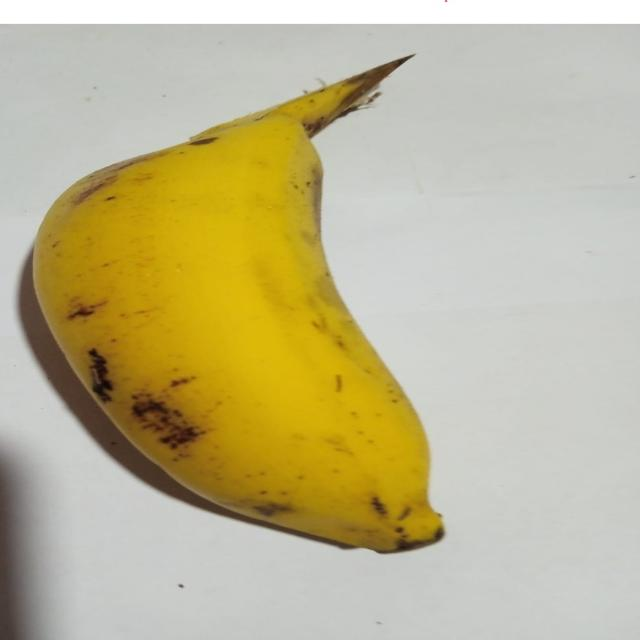banana: (34, 59, 443, 551)
